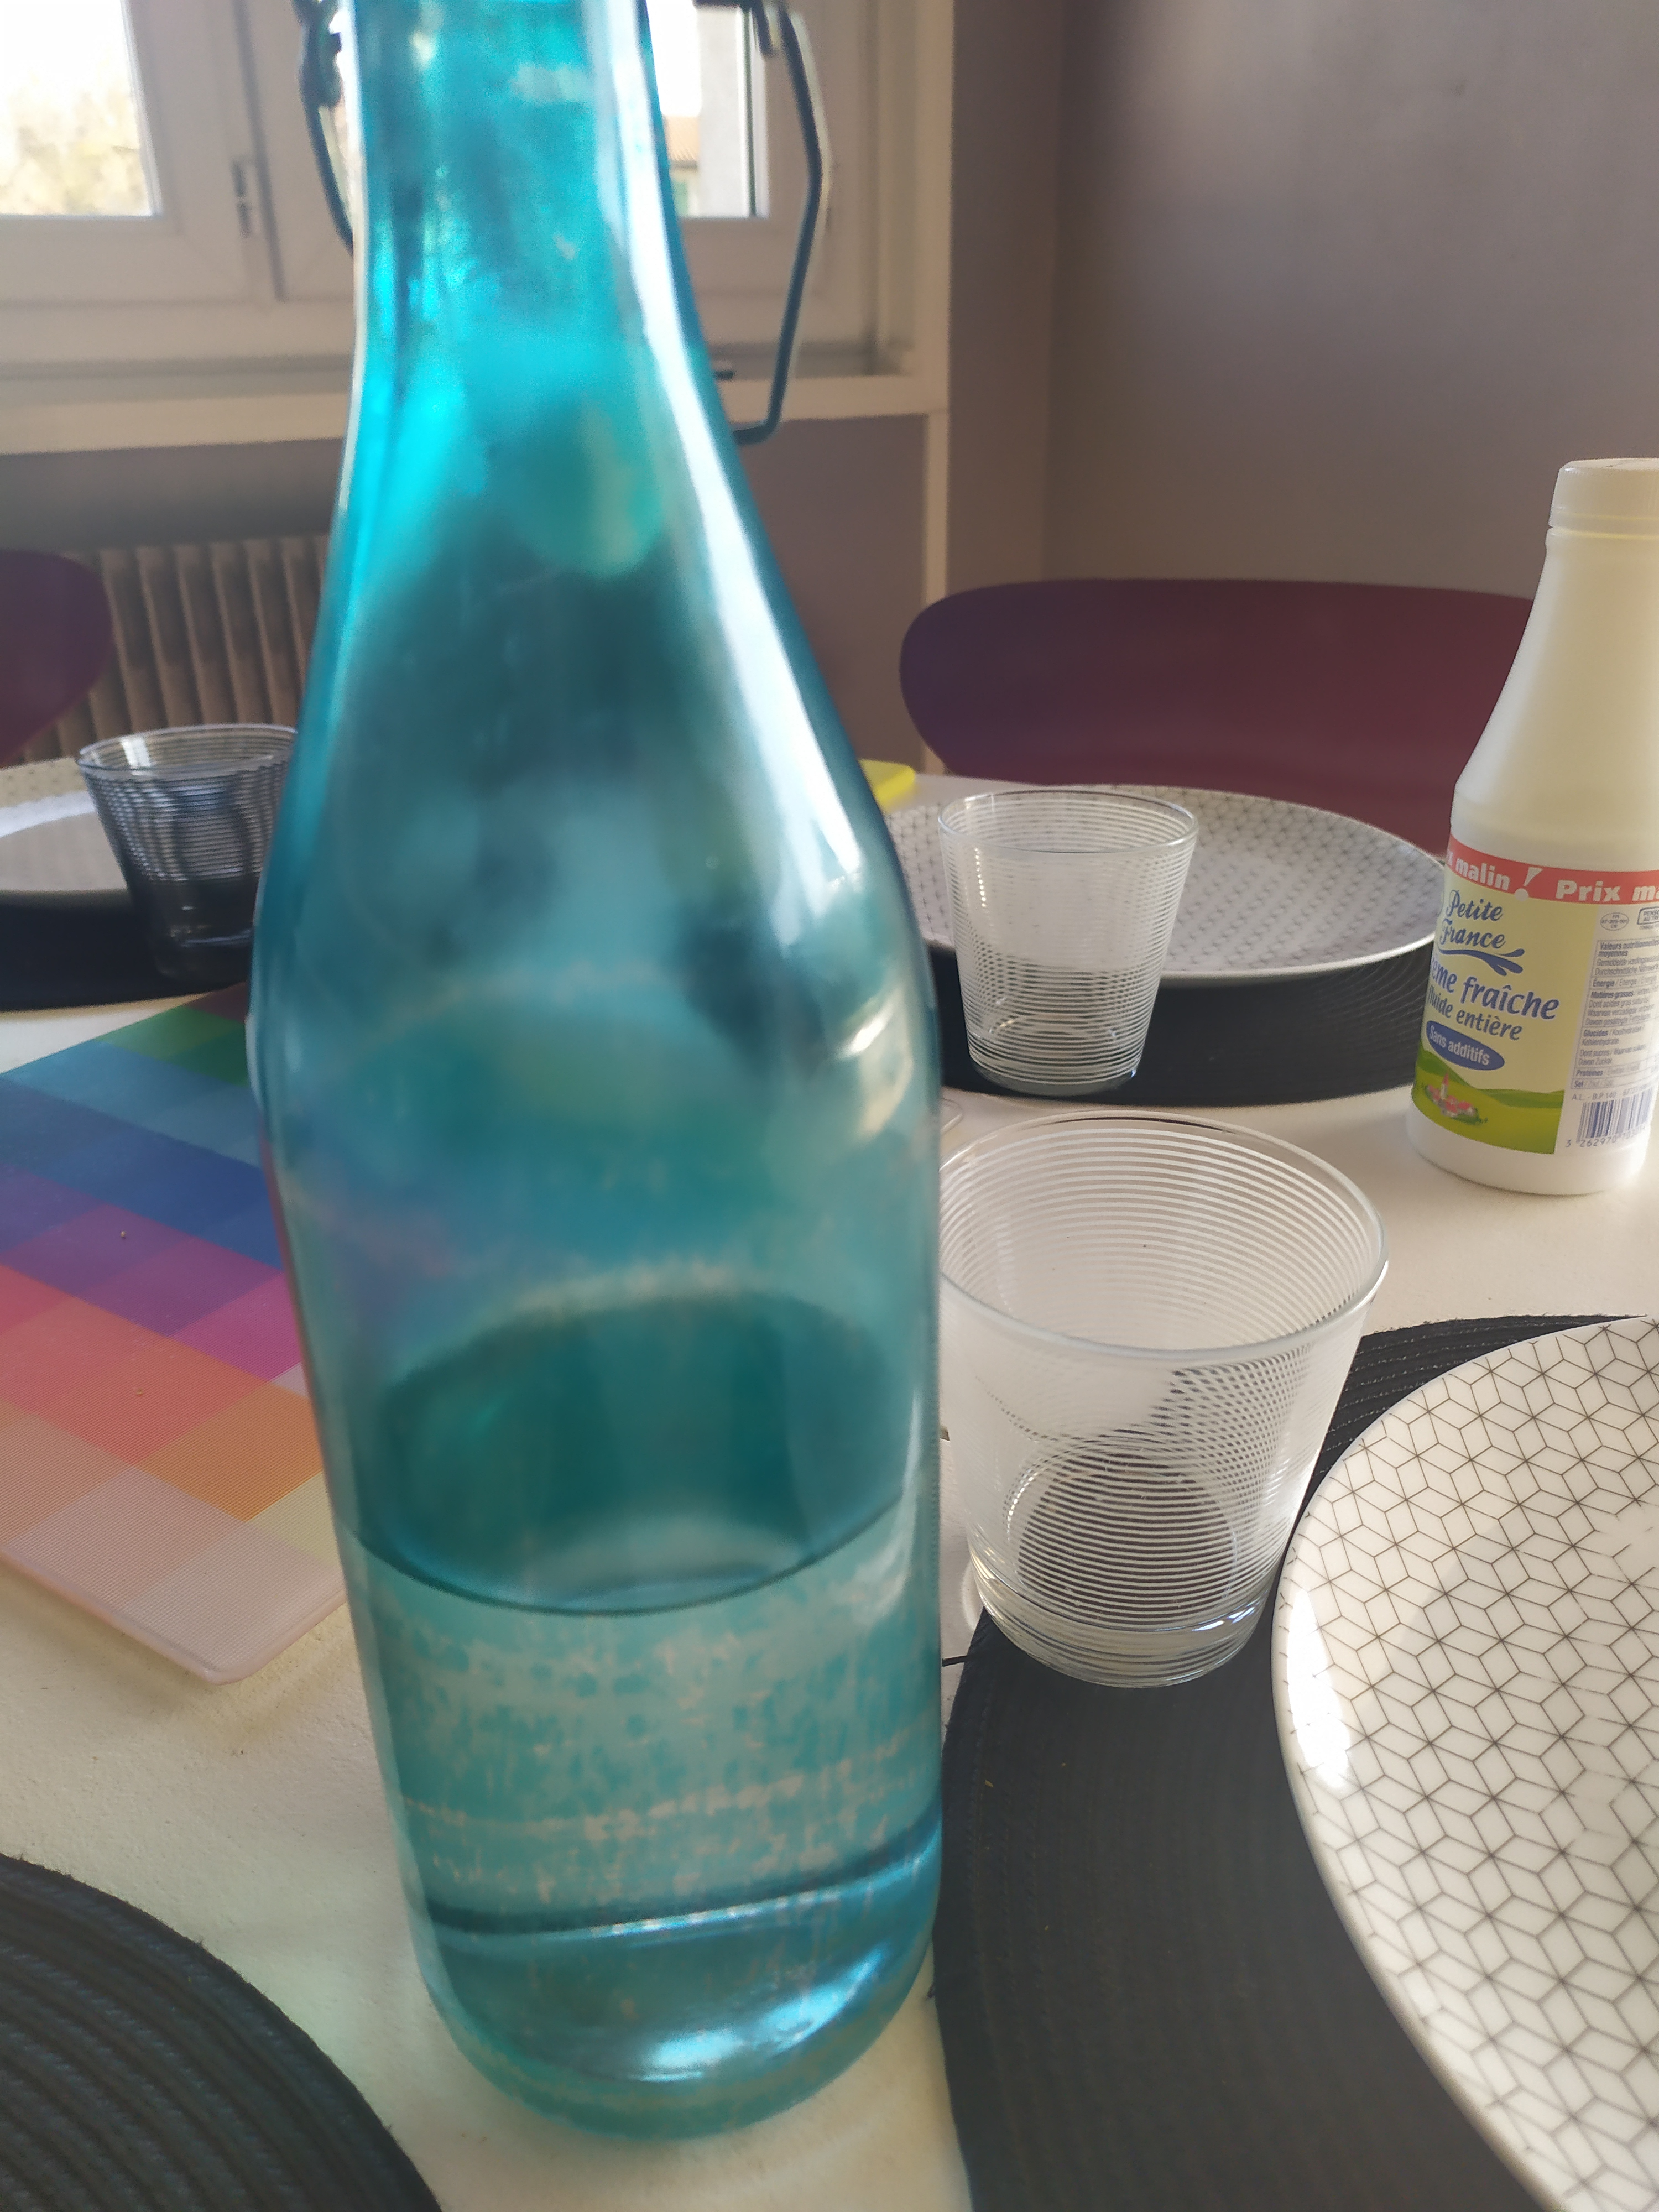bottle: (234, 5, 955, 2121), (1408, 449, 1659, 1195)
